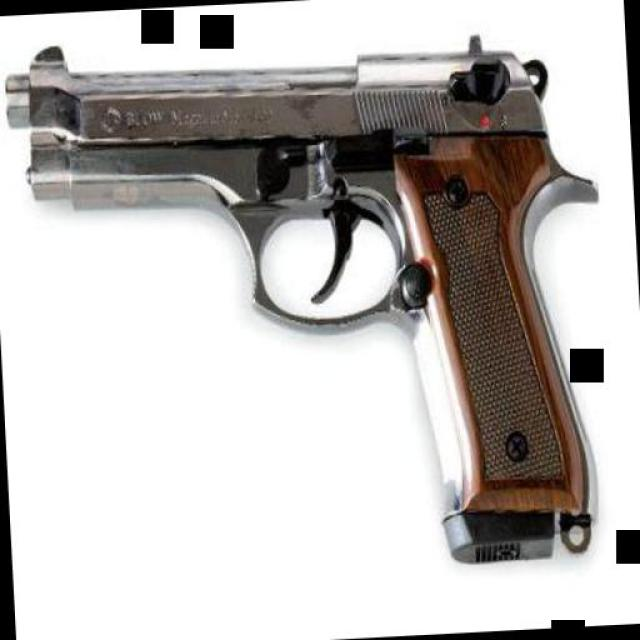gun: (0, 12, 612, 585)
